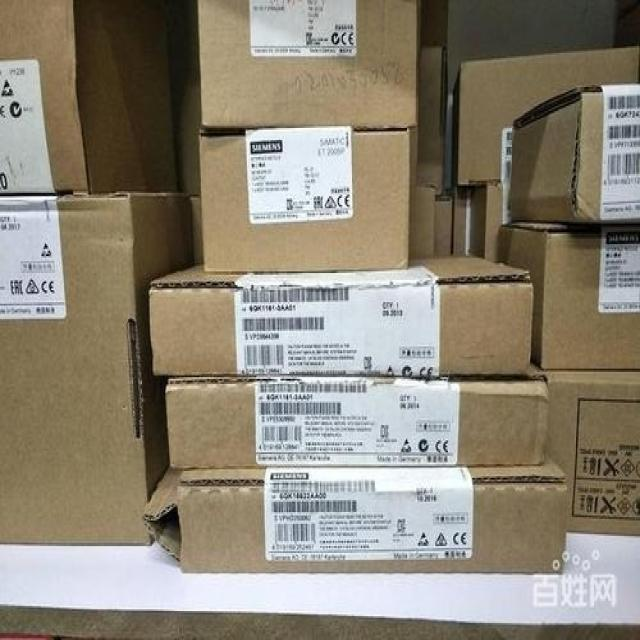box: (0, 195, 195, 548), (136, 452, 568, 575), (147, 256, 535, 379), (166, 365, 548, 466), (0, 0, 178, 195), (198, 128, 408, 271), (198, 0, 417, 135), (451, 46, 639, 189), (498, 222, 639, 372), (509, 85, 640, 224), (541, 372, 638, 537), (172, 2, 200, 195), (415, 46, 447, 193), (408, 125, 438, 261), (452, 186, 488, 259), (485, 181, 511, 263), (187, 195, 204, 266), (436, 195, 453, 259)
